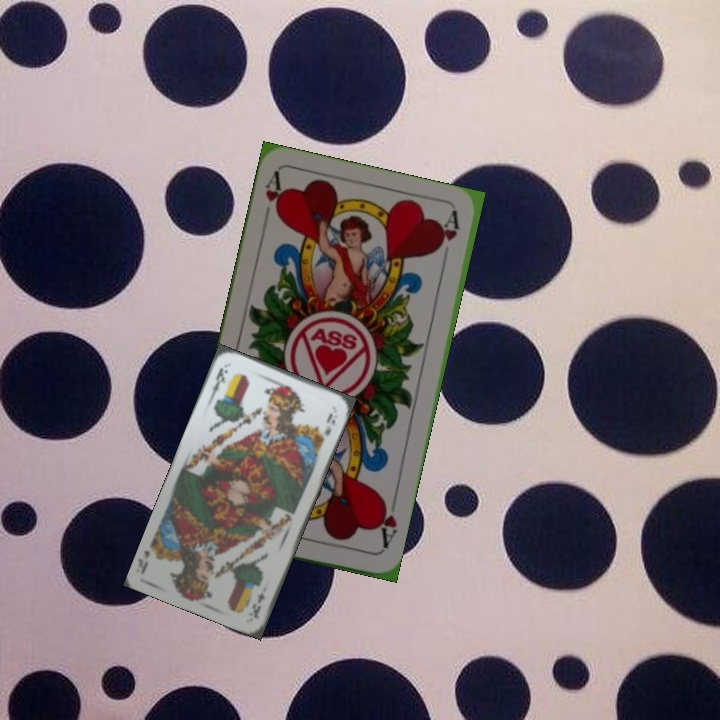EK: (206, 364, 230, 400), (248, 588, 268, 621)
HA: (258, 169, 287, 227), (372, 494, 400, 553)
